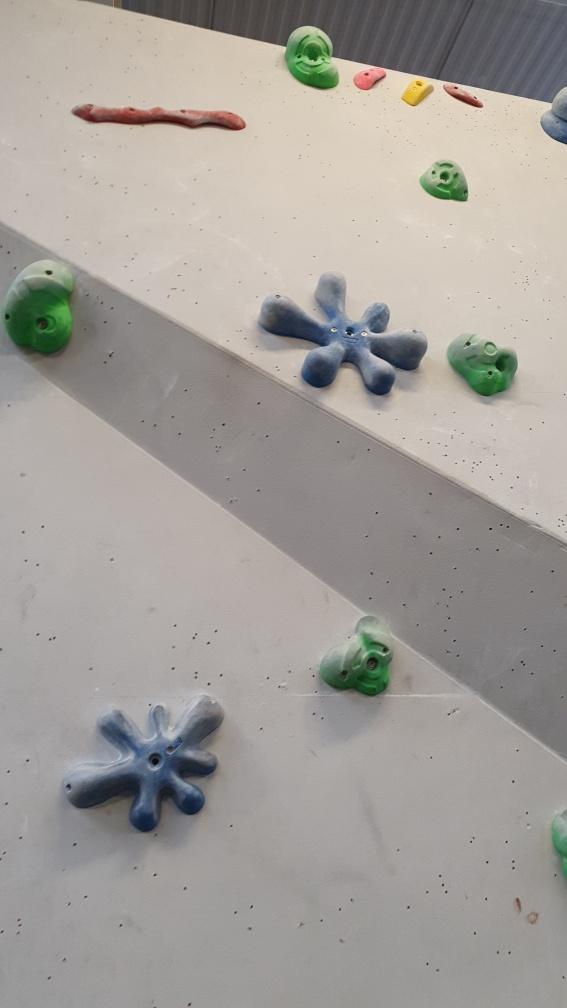Crimp: (442, 82, 485, 112), (353, 67, 392, 91)
Jug: (3, 258, 83, 358), (320, 614, 395, 699), (444, 333, 525, 402), (282, 19, 344, 91), (420, 157, 473, 203)
Octopus Pinch: (61, 694, 225, 833), (257, 270, 430, 398)
Pinch: (72, 100, 247, 132), (406, 80, 436, 110)
Sloper: (538, 83, 567, 144)
